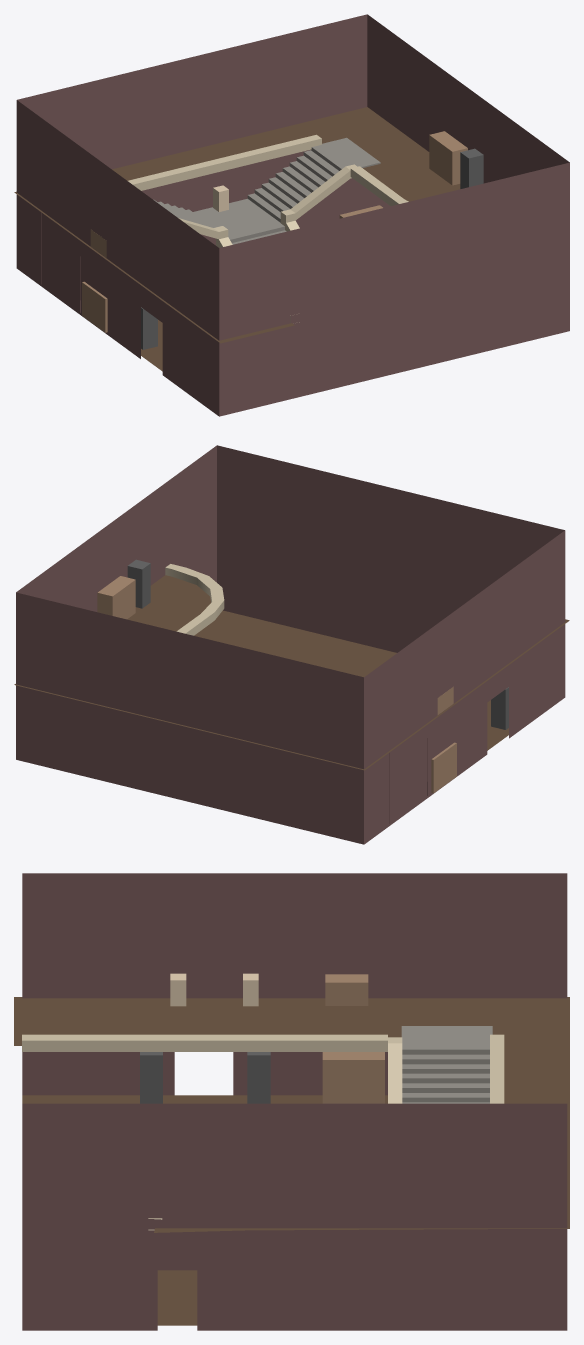
The model's file is hall_BlockOut.fbx.
3 renders of one model, top to bottom at view 1: azimuth 30°, elevation 25°; view 2: azimuth 150°, elevation 25°; view 3: azimuth 270°, elevation 25°, orthographic. The views are drawn at different scales.
Parts seen in each view (by area): view 1: UpperWalls, walls, floor, steps, walls3, baseLeft1, baseRight (×2), walls2, drawer2, drawer, armorStand2, armorStand1 (+1 smaller); view 2: UpperWalls, walls, Floor, floor, baseRight, drawer2, drawer, armorStand2, armorStand; view 3: UpperWalls, walls, floor, baseLeft (×2), steps, Floor, drawer, smallDrawer1, armorStand1, armorStand, baseLeft1, pedestal2.
Part boxes in pixels (x1,y1,x2,y2): UpperWalls: [16, 14, 569, 340]; walls: [16, 99, 569, 416]; floor: [14, 107, 460, 343]; steps: [153, 137, 380, 244]; walls3: [141, 149, 310, 211]; baseLeft1: [128, 134, 321, 190]; baseRight (×2): [280, 164, 408, 231]; walls2: [295, 178, 390, 228]; drawer2: [429, 131, 467, 185]; drawer: [82, 281, 107, 332]; armorStand2: [460, 148, 483, 188]; armorStand1: [141, 307, 157, 349]; UpperWalls: [16, 445, 565, 768]; walls: [16, 529, 565, 844]; Floor: [194, 610, 508, 750]; floor: [14, 575, 569, 770]; baseRight: [165, 564, 224, 635]; drawer2: [97, 576, 135, 619]; drawer: [431, 742, 456, 793]; armorStand2: [127, 559, 150, 608]; armorStand: [491, 687, 508, 729]; UpperWalls: [22, 873, 567, 1228]; walls: [22, 986, 567, 1330]; floor: [14, 997, 569, 1232]; baseLeft (×2): [22, 1034, 402, 1103]; steps: [401, 1026, 492, 1103]; Floor: [22, 1095, 387, 1325]; drawer: [322, 1052, 384, 1103]; smallDrawer1: [325, 974, 368, 1005]; armorStand1: [247, 1052, 270, 1103]; armorStand: [140, 1052, 162, 1103]; baseLeft1: [490, 1034, 504, 1103]; pedestal2: [170, 973, 186, 1006].
Bounding box in the file's own units: 12.31 × 5.51 × 12.24.
